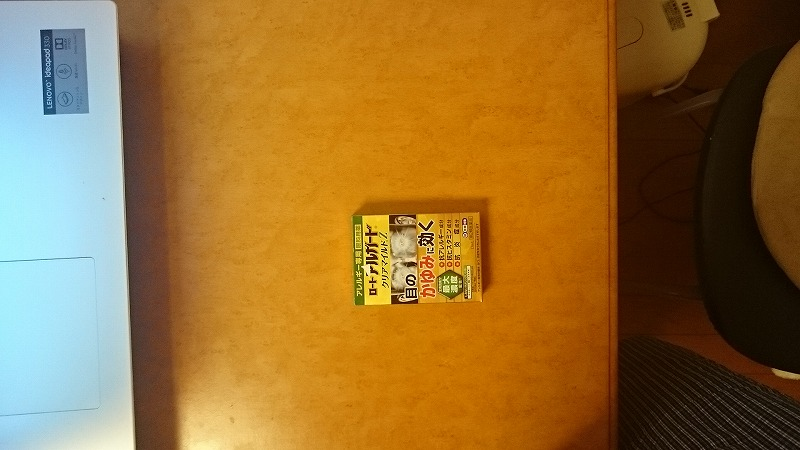C: (349, 210, 486, 309)
